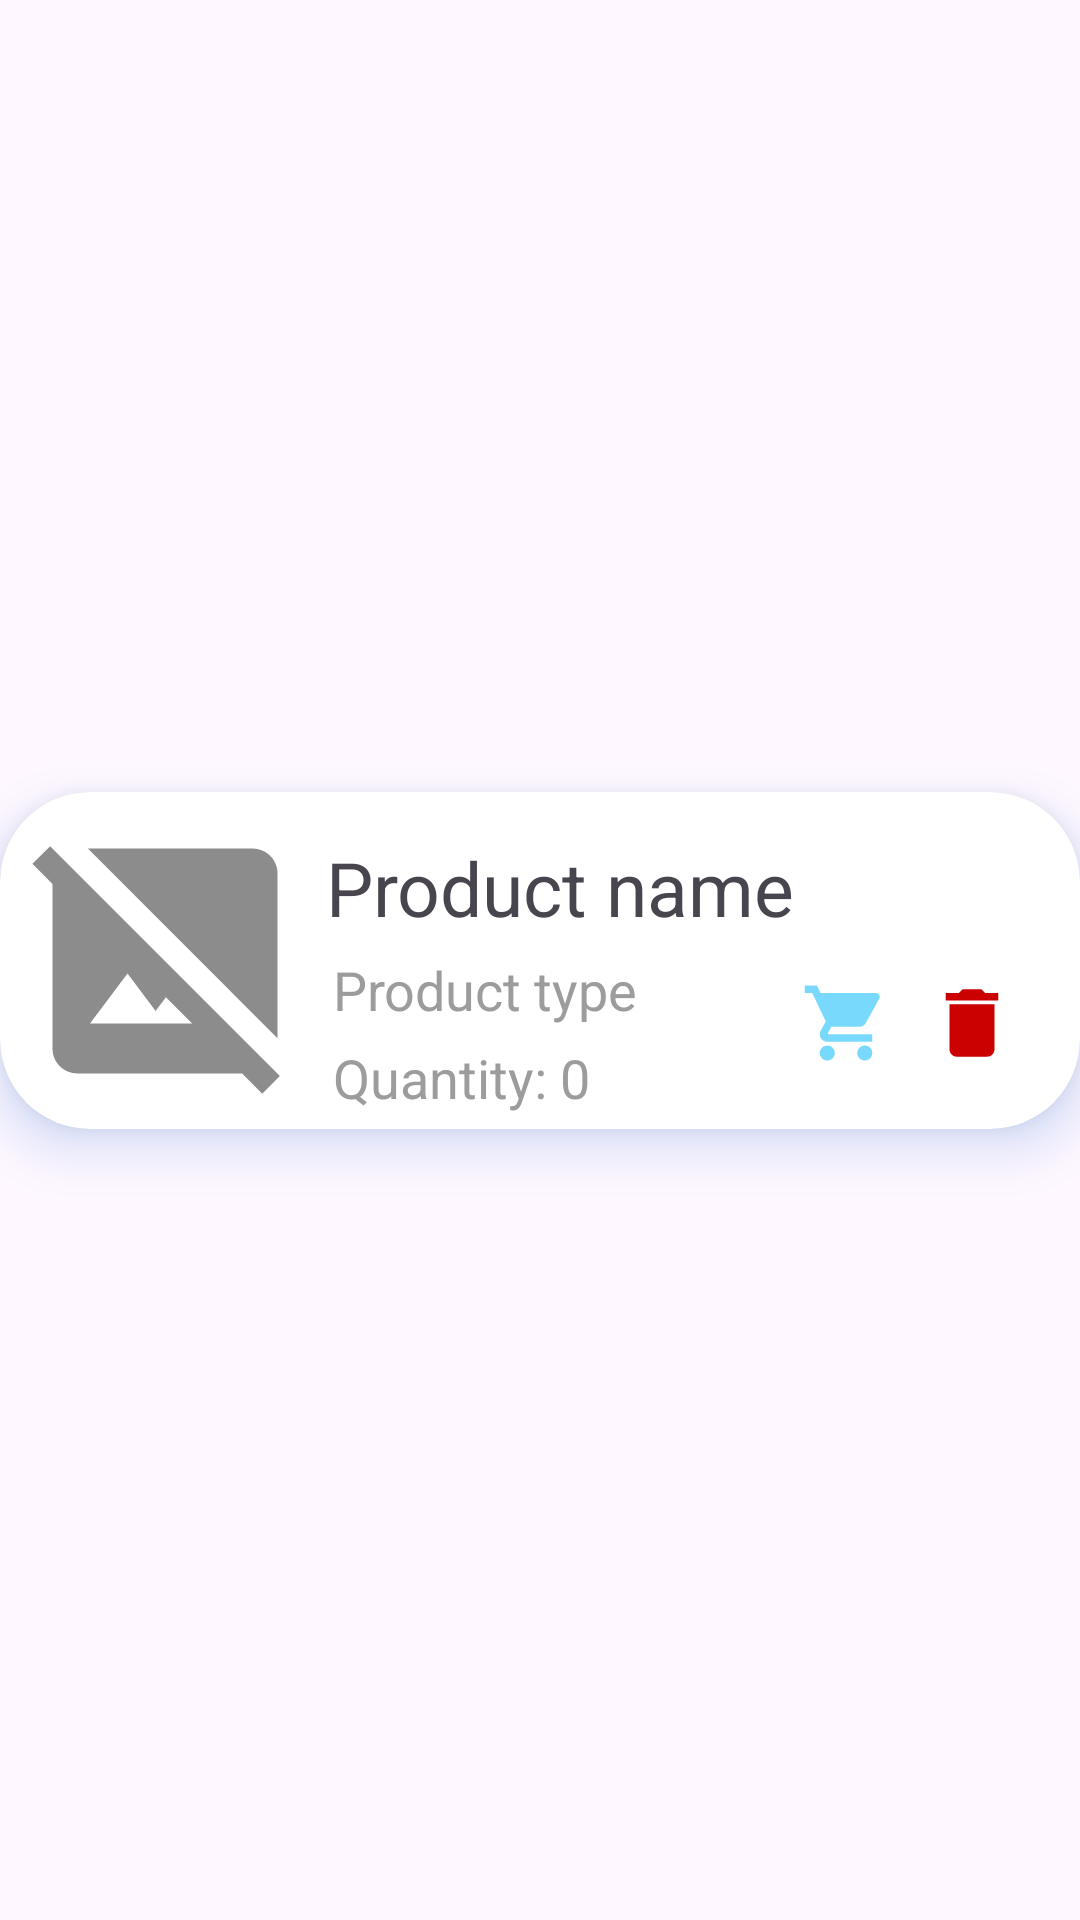

Icon bounding boxes for this 1080×1920 phone screenshot, format (x1, y1, x2, y2):
delete: (945, 989, 999, 1057)
shopping cart: (804, 985, 880, 1061)
